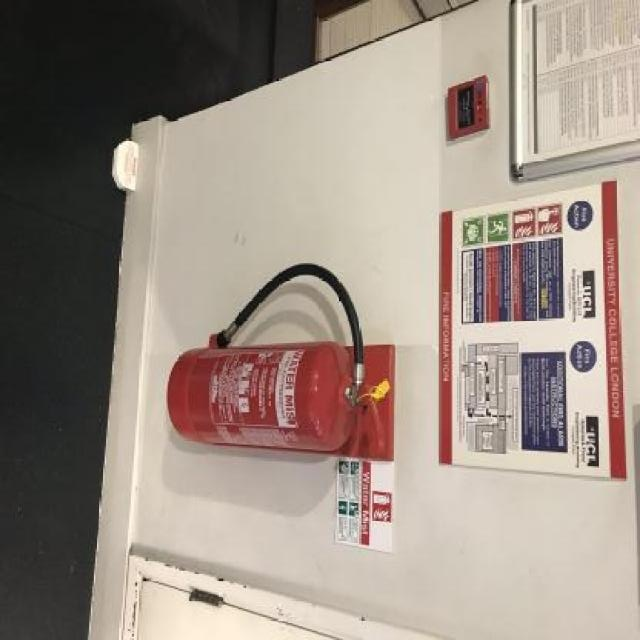fire extinguisher: (163, 266, 389, 454)
